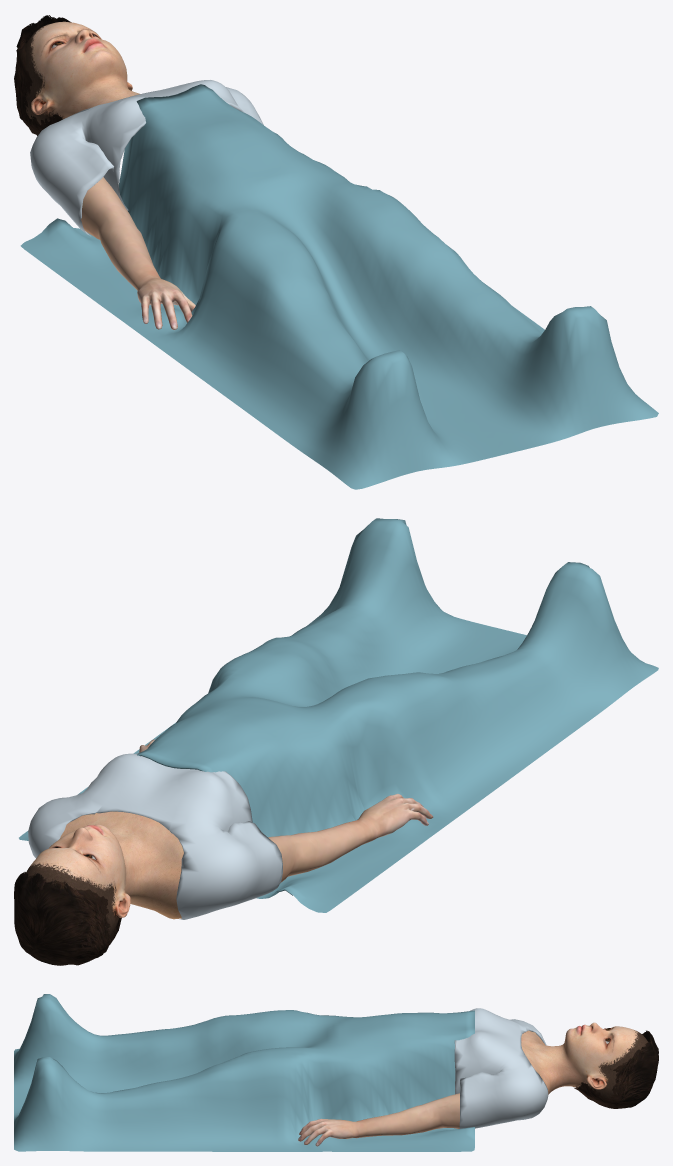
The picture shows the model from 3 angles, top to bottom: view 1: azimuth 30°, elevation 25°; view 2: azimuth 150°, elevation 25°; view 3: azimuth 270°, elevation 25°; orthographic projection. The views are drawn at different scales.
Parts seen in each view (by area): view 1: sheet, gown, body, arms, hair; view 2: sheet, gown, body, hair, arms; view 3: sheet, gown, body, arms, hair.
Part boxes in pixels (x1=…): sheet: x1=20, y1=84, x2=658, y2=489; gown: x1=30, y1=80, x2=263, y2=236; body: x1=24, y1=21, x2=140, y2=124; arms: x1=81, y1=177, x2=195, y2=329; hair: x1=14, y1=15, x2=71, y2=135; sheet: x1=19, y1=518, x2=658, y2=912; gown: x1=28, y1=752, x2=282, y2=919; body: x1=26, y1=811, x2=183, y2=935; hair: x1=14, y1=872, x2=121, y2=965; arms: x1=139, y1=739, x2=433, y2=882; sheet: x1=14, y1=994, x2=474, y2=1151; gown: x1=454, y1=1008, x2=548, y2=1128; body: x1=521, y1=1022, x2=648, y2=1098; arms: x1=298, y1=1093, x2=459, y2=1146; hair: x1=574, y1=1030, x2=658, y2=1108.
Size of the model in its own units: 0.5029 by 0.1833 by 1.33.
Materials: 8 (6 with a texture image).
